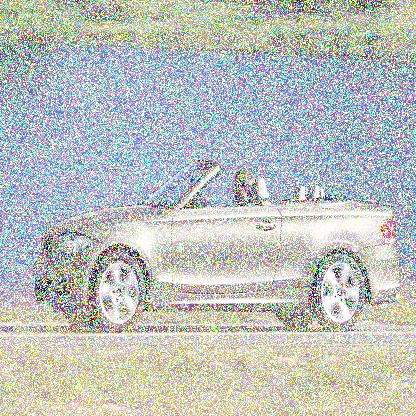Vehicle: (29, 154, 404, 336)
